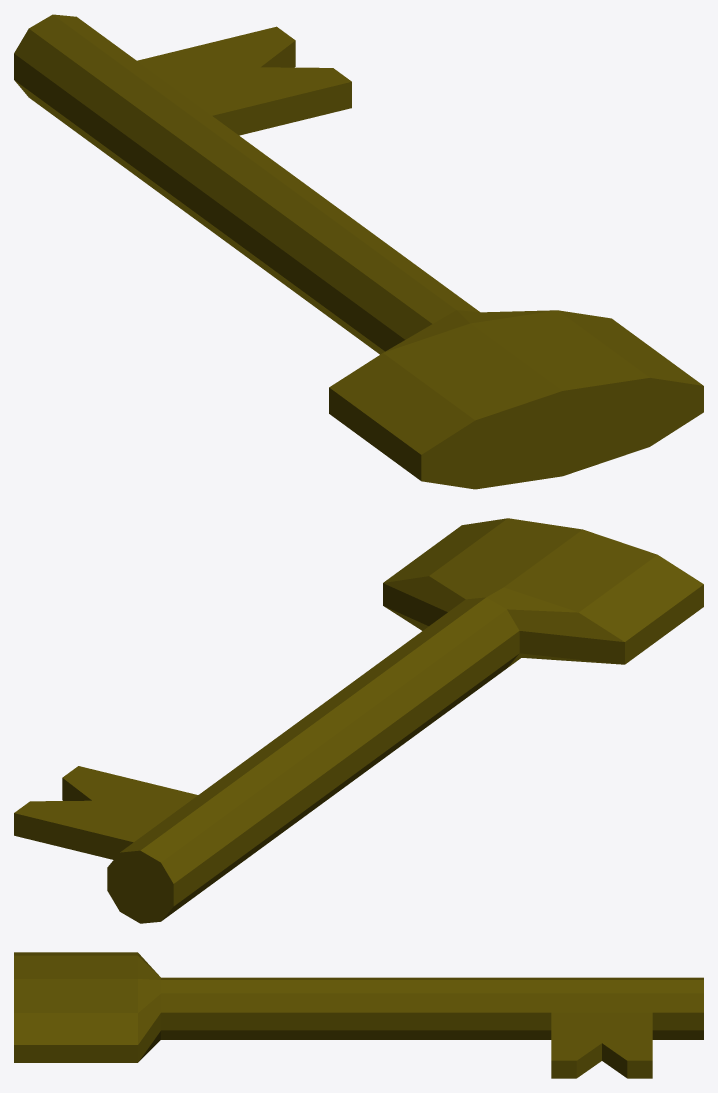
The model's file is Key.fbx.
The picture shows the model from 3 angles, top to bottom: view 1: azimuth 30°, elevation 25°; view 2: azimuth 150°, elevation 25°; view 3: azimuth 270°, elevation 25°; orthographic projection. The views are drawn at different scales.
Visible parts, largest first — view 1: Cylinder; view 2: Cylinder; view 3: Cylinder.
Part boxes in pixels (bbox=[...]): Cylinder: bbox=[14, 14, 703, 489]; Cylinder: bbox=[14, 518, 703, 923]; Cylinder: bbox=[14, 952, 703, 1078].
Bounding box in the file's own units: 48.76 × 12.04 × 131.
